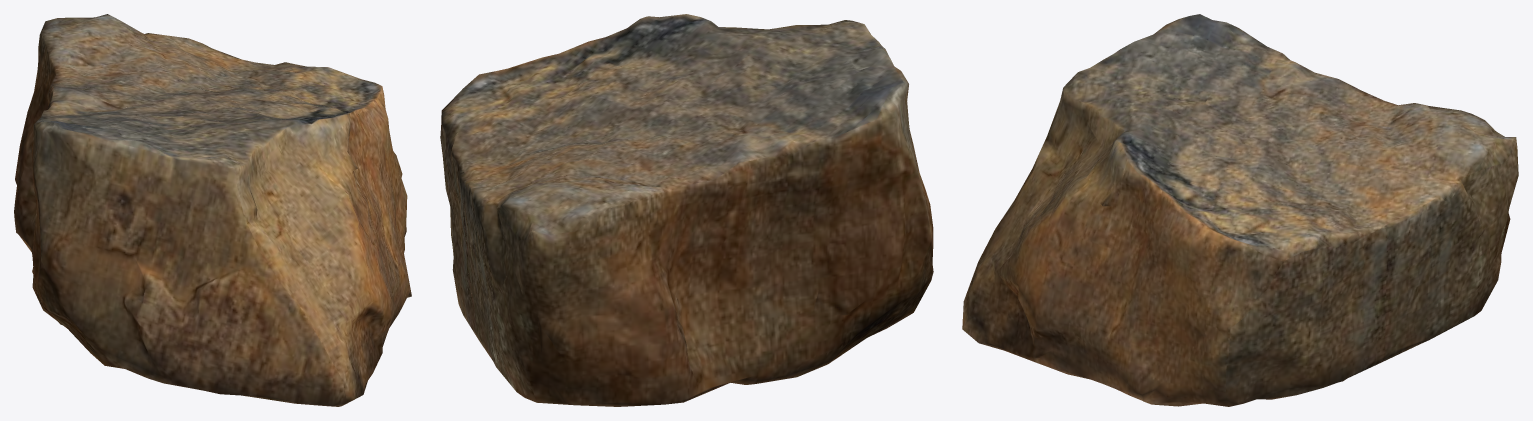
The picture shows the model from 3 angles, left to right: view 1: azimuth 30°, elevation 25°; view 2: azimuth 150°, elevation 25°; view 3: azimuth 270°, elevation 25°; orthographic projection. The views are drawn at different scales.
Parts seen in each view (by area): view 1: namaqualand_boulder_03_lod1; view 2: namaqualand_boulder_03_lod1; view 3: namaqualand_boulder_03_lod1.
Boxes of the visible parts, x1,y1,x2,y2 form: namaqualand_boulder_03_lod1: [14, 14, 411, 406]; namaqualand_boulder_03_lod1: [440, 14, 933, 406]; namaqualand_boulder_03_lod1: [962, 14, 1518, 406].
Bounding box in the file's own units: 2.4 × 1.47 × 3.05.
Materials: 1 (1 with a texture image).
